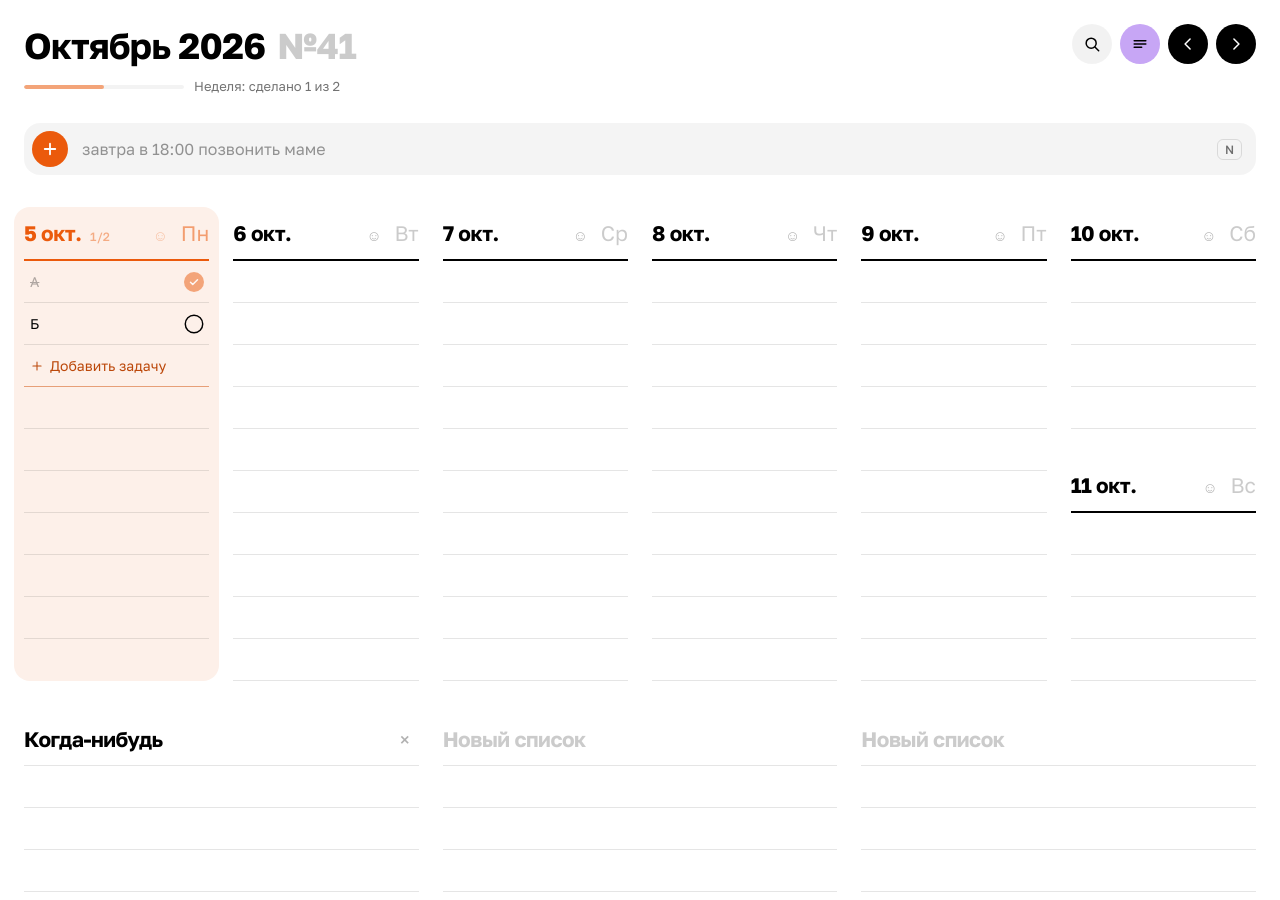
Scenario: меню › открывает итоги, клавиши и месяц с плиток
Click the button named "Меню" at [1140, 44], box [1120, 24, 1160, 64]
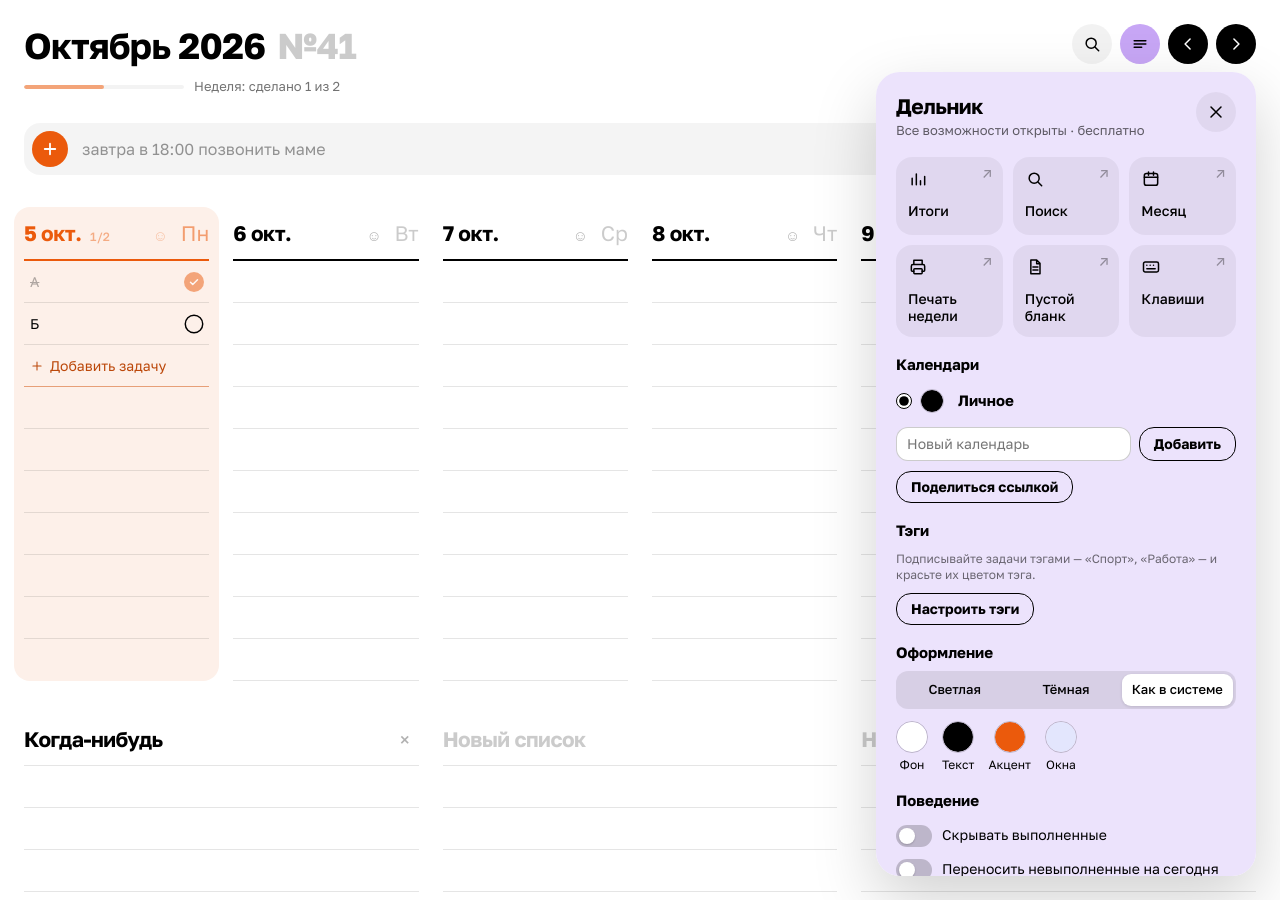
Click the button "Итоги ↗" at [949, 196], box [896, 157, 1003, 235]
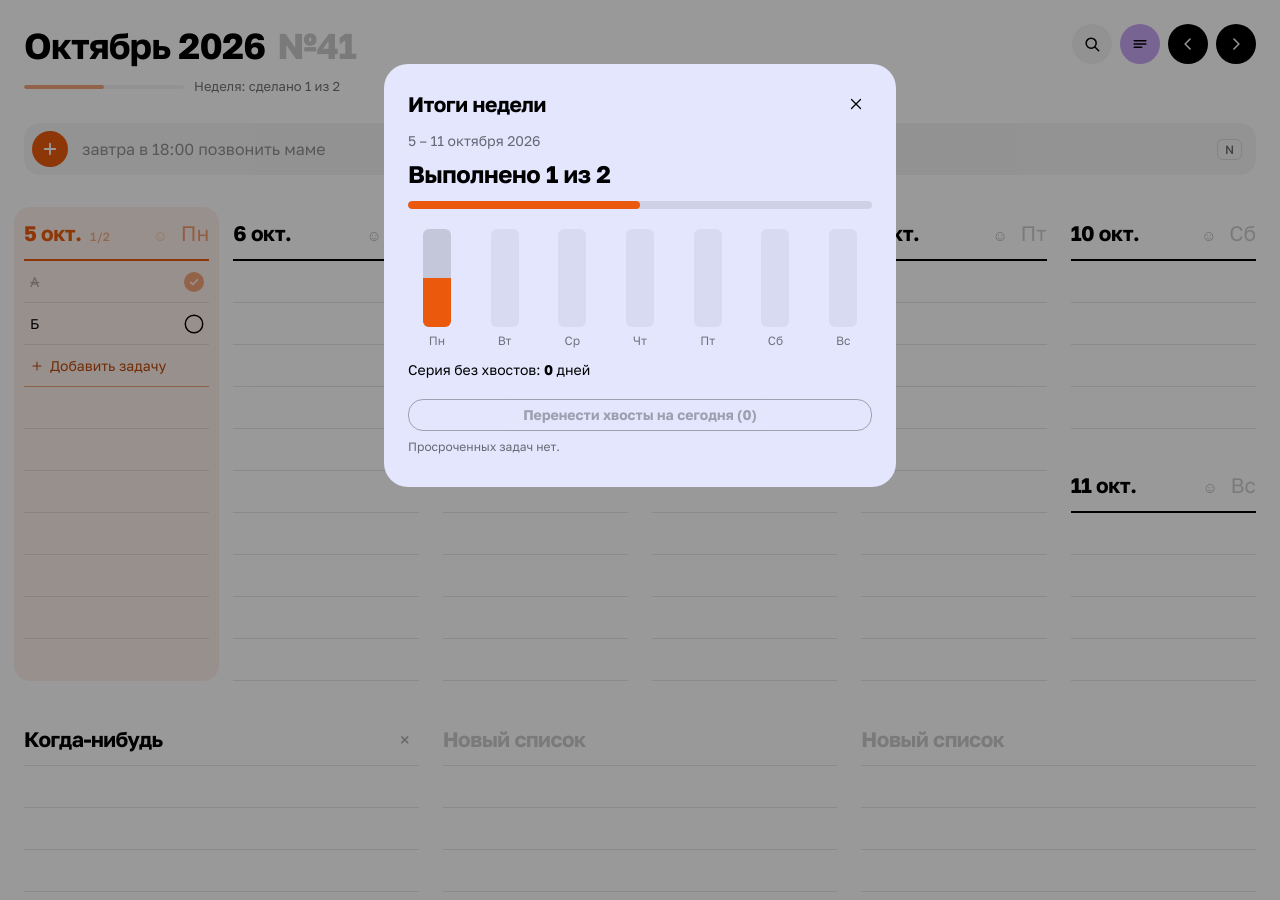
expect the text "Выполнено 1 из 2" is shown: met, box [408, 159, 610, 188]
expect the number of elements with test id "stats-day" is 7: met
Click the button named "Закрыть" at [856, 104], box [840, 88, 872, 120]
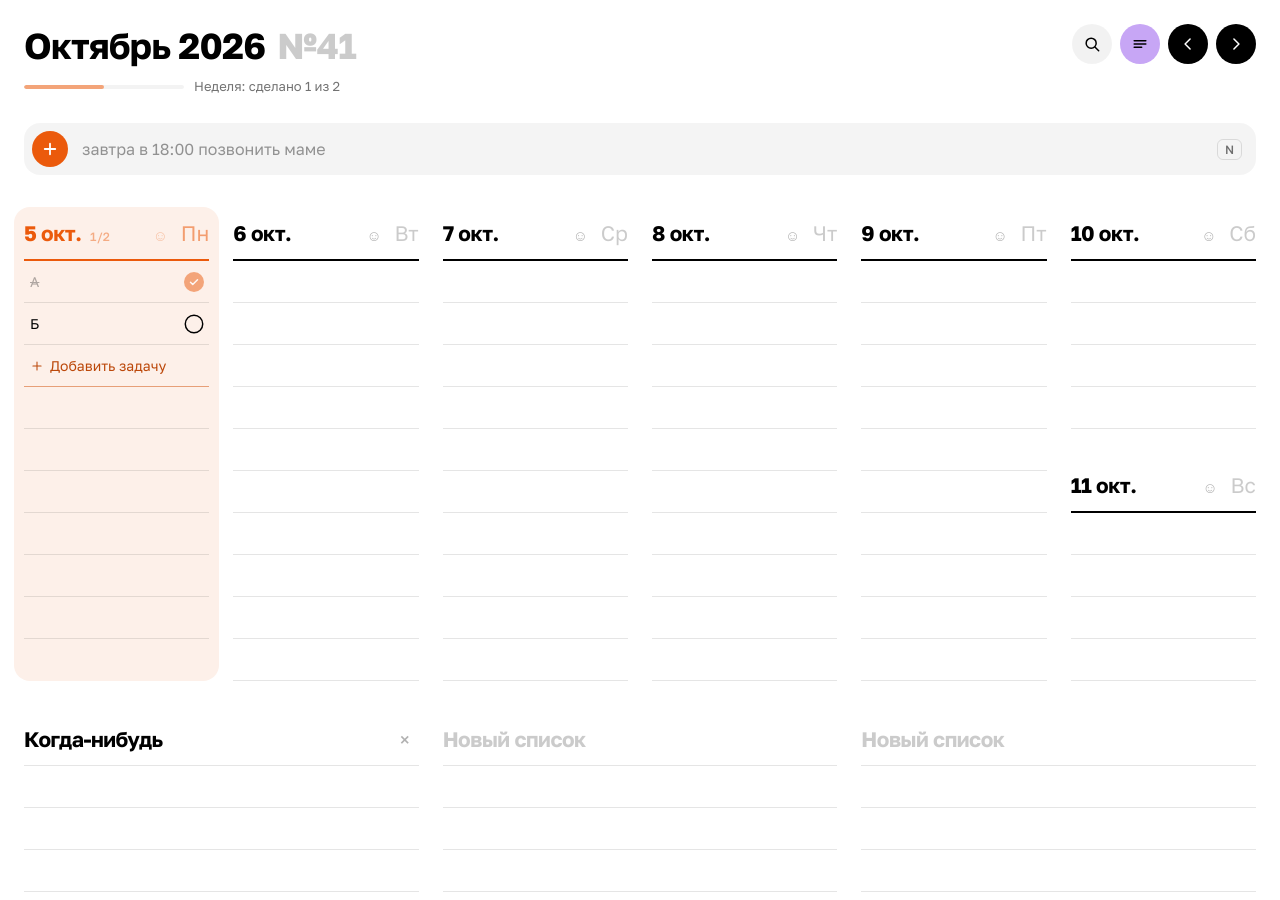
Click the button named "Меню" at [1140, 44], box [1120, 24, 1160, 64]
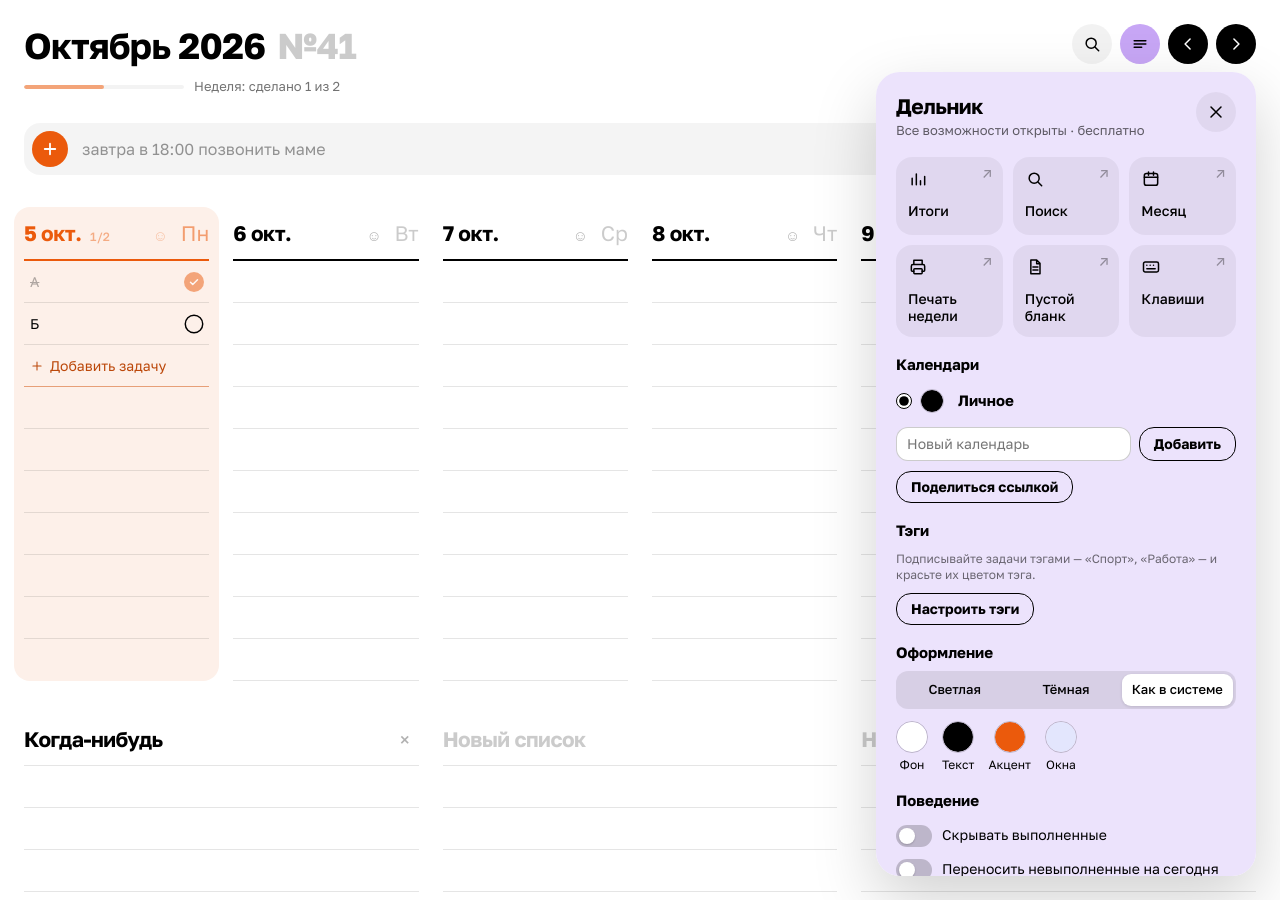
Click the button "Клавиши ↗" at [1183, 291], box [1129, 245, 1236, 337]
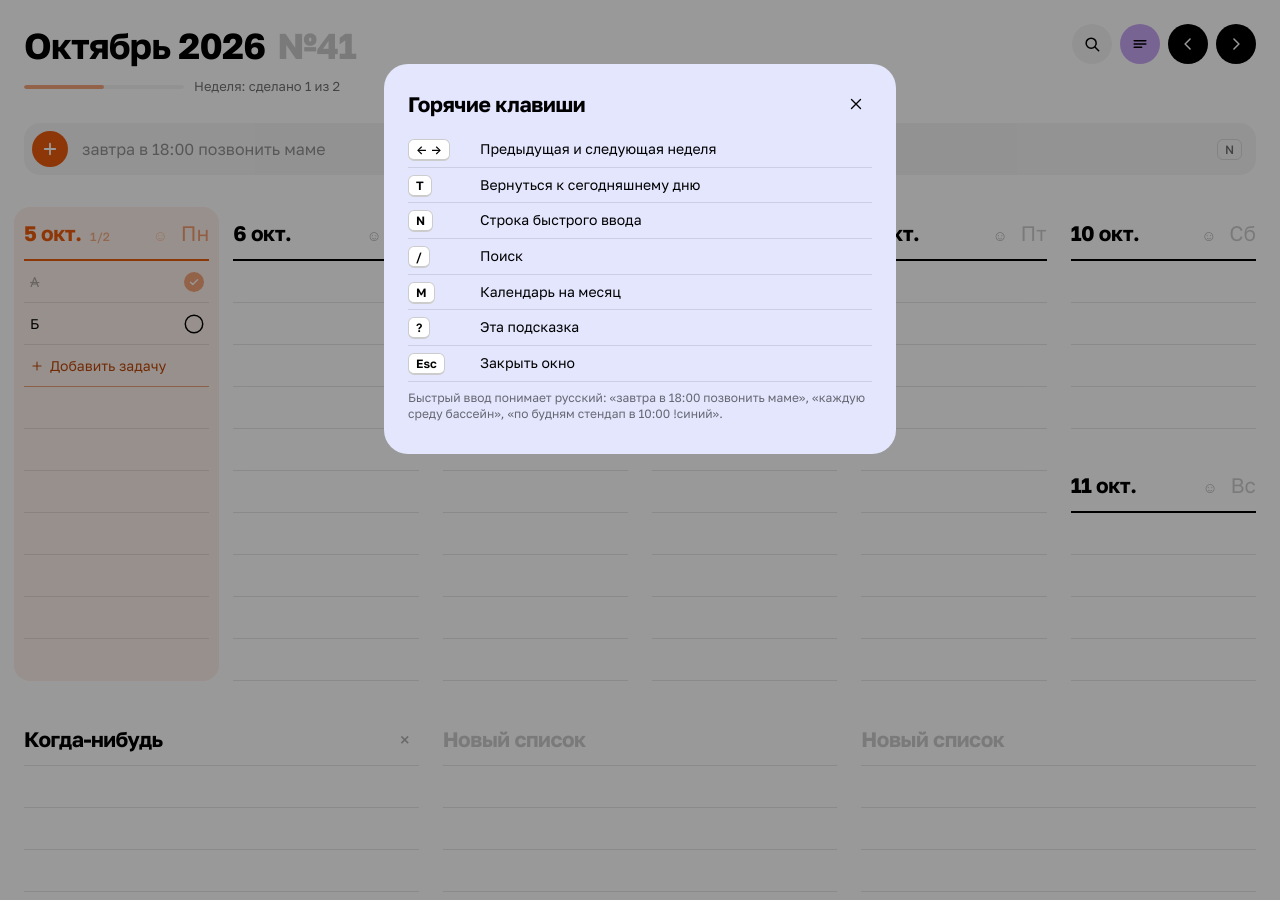
expect the dialog "Горячие клавиши" is shown: met, box [384, 64, 896, 454]
